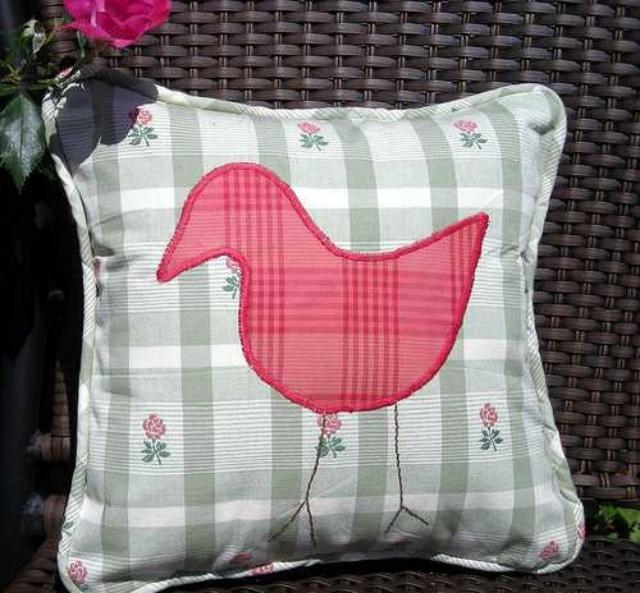pillow: (41, 72, 585, 592)
